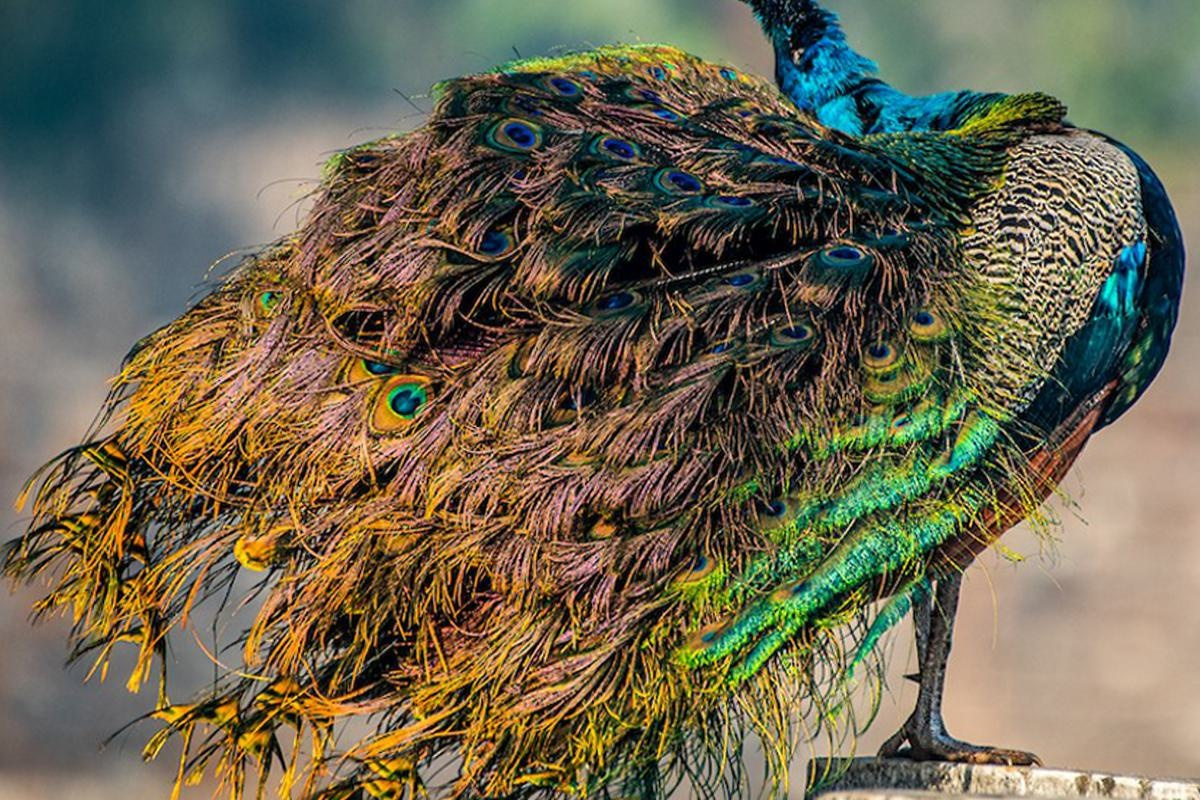peacock: (1, 30, 1140, 800)
